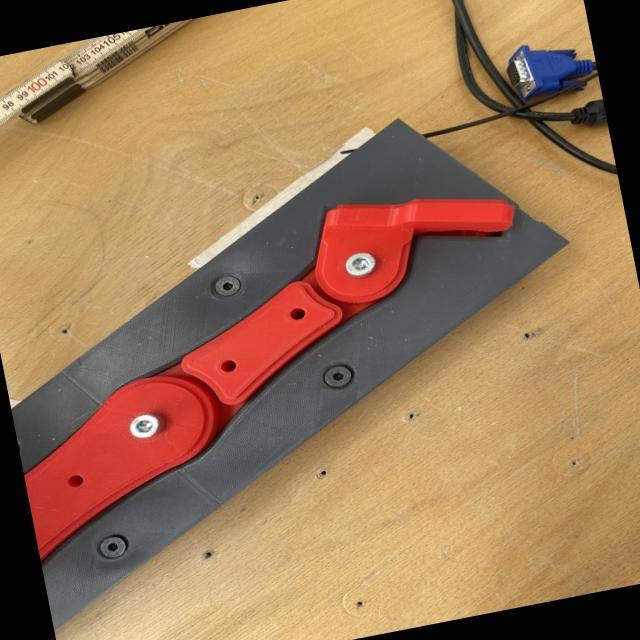Hex Socket Allen: (344, 250, 378, 280), (128, 412, 161, 441), (98, 534, 128, 560), (212, 273, 243, 298), (322, 364, 353, 389)
